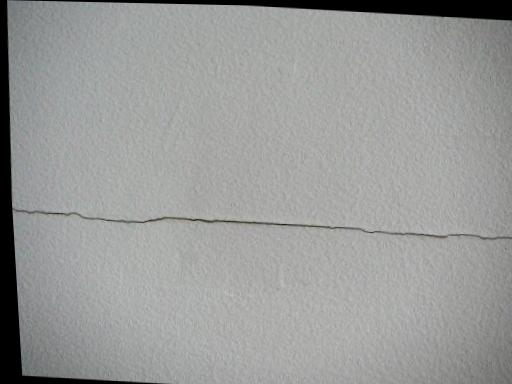crack: (10, 208, 512, 237)
